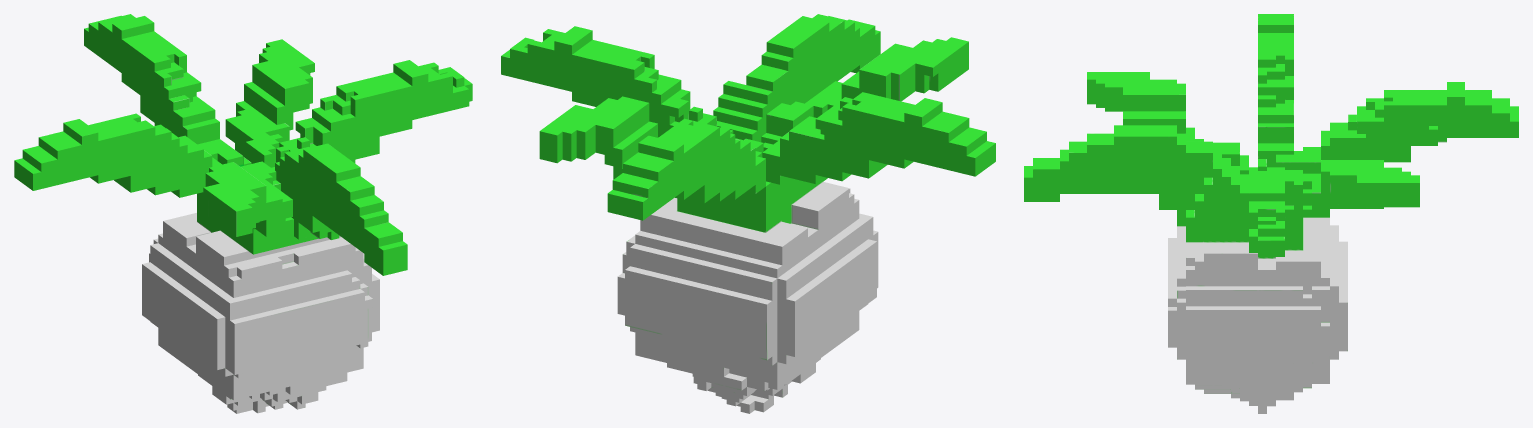
The model's file is sakurajimadaikon.glb.
The picture shows the model from 3 angles, left to right: view 1: azimuth 30°, elevation 25°; view 2: azimuth 150°, elevation 25°; view 3: azimuth 270°, elevation 25°; orthographic projection. The views are drawn at different scales.
Parts seen in each view (by area): view 1: sakurajimadaikon; view 2: sakurajimadaikon; view 3: sakurajimadaikon.
Part boxes in pixels (box(x1,y1,x2,y2)): sakurajimadaikon: box(14, 14, 472, 413); sakurajimadaikon: box(501, 14, 995, 413); sakurajimadaikon: box(1024, 14, 1518, 413).
Size of the model in its own units: 1.08 by 0.74 by 1.1.
Materials: 1 (1 with a texture image).
